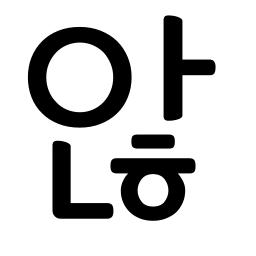Gaji: (152, 49, 199, 89)
